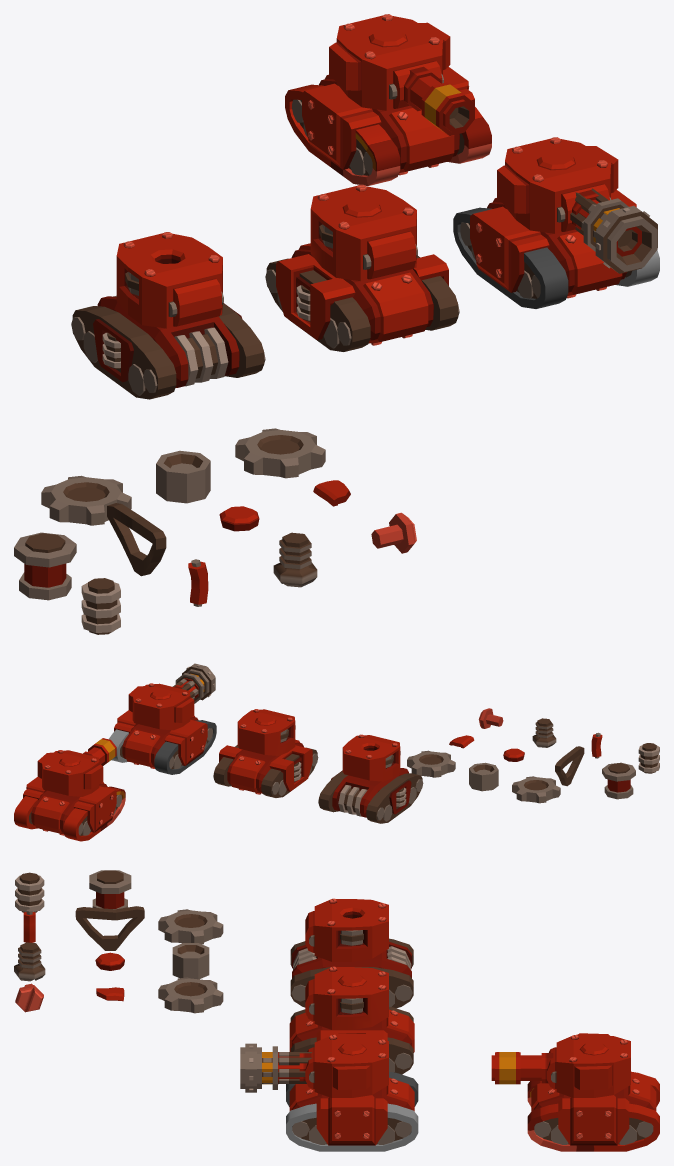
The model's file is player_tank.fbx.
3 views of the same model, one above another, from view 1: azimuth 30°, elevation 25°; view 2: azimuth 150°, elevation 25°; view 3: azimuth 270°, elevation 25° (orthographic). The views are drawn at different scales.
Parts seen in each view (by area): view 1: hull02_damaged, tank_combined_hull, hull02_critical, tank_combined_turret, turret01_critical, turret01_damaged, turret01, hull02, barrel_minigun_part2, treads, part_turretshield, part_turretspinner (+6 smaller); view 2: tank_combined_hull, hull02_damaged, hull02_critical, hull02, tank_combined_turret, turret01, turret01_critical, turret01_damaged, treads, part_cog01, part_turretshield, part_turretspinner (+6 smaller); view 3: tank_combined_hull, tank_combined_turret, hull02, turret01_damaged, turret01_critical, turret01, hull02_critical, hull02_damaged, treads, barrel_minigun_part2, part_turretshield, part_cog01 (+9 smaller).
Boxes of the visible parts, bbox=[...] form: hull02_damaged: bbox=[265, 243, 459, 351]; tank_combined_hull: bbox=[285, 66, 491, 185]; hull02_critical: bbox=[71, 295, 265, 399]; tank_combined_turret: bbox=[329, 14, 474, 135]; turret01_critical: bbox=[116, 232, 223, 328]; turret01_damaged: bbox=[310, 184, 417, 281]; turret01: bbox=[497, 137, 618, 233]; hull02: bbox=[460, 189, 636, 298]; barrel_minigun_part2: bbox=[570, 188, 657, 273]; treads: bbox=[453, 207, 659, 308]; part_turretshield: bbox=[235, 428, 325, 478]; part_turretspinner: bbox=[14, 532, 76, 600]; tank_combined_hull: bbox=[14, 776, 125, 841]; hull02_damaged: bbox=[213, 739, 318, 797]; hull02_critical: bbox=[318, 768, 423, 823]; hull02: bbox=[114, 710, 212, 769]; tank_combined_turret: bbox=[37, 738, 116, 796]; turret01: bbox=[128, 683, 194, 730]; turret01_critical: bbox=[342, 734, 400, 781]; turret01_damaged: bbox=[237, 709, 295, 755]; treads: bbox=[109, 720, 216, 774]; part_cog01: bbox=[512, 776, 560, 803]; part_turretshield: bbox=[407, 750, 455, 777]; part_turretspinner: bbox=[602, 762, 635, 799]; tank_combined_hull: bbox=[527, 1071, 659, 1151]; tank_combined_turret: bbox=[491, 1033, 630, 1097]; hull02: bbox=[289, 1077, 414, 1145]; turret01_damaged: bbox=[305, 966, 388, 1029]; turret01_critical: bbox=[305, 898, 388, 961]; turret01: bbox=[305, 1033, 388, 1097]; hull02_critical: bbox=[290, 938, 413, 1008]; hull02_damaged: bbox=[289, 1007, 414, 1074]; treads: bbox=[286, 1071, 418, 1151]; barrel_minigun_part2: bbox=[240, 1043, 311, 1092]; part_turretshield: bbox=[158, 977, 223, 1013]; part_cog01: bbox=[158, 909, 223, 944].
Size of the model in its own units: 797 by 147 by 802.
